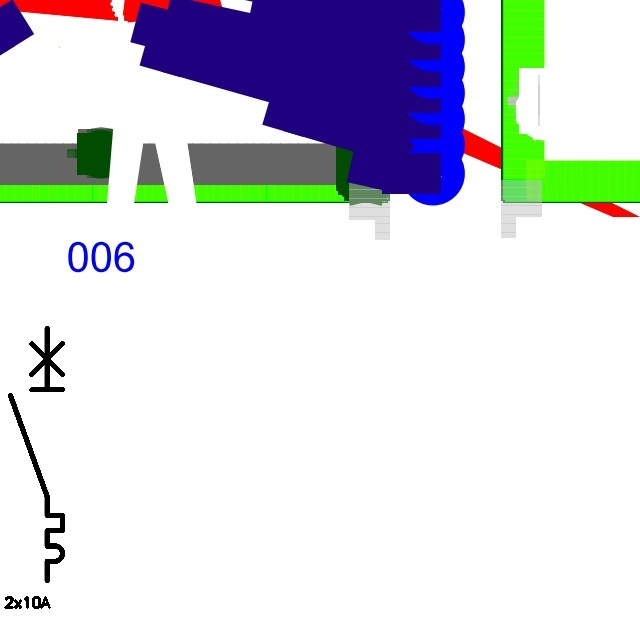interruptor_termomagnetico: (4, 322, 69, 587)
